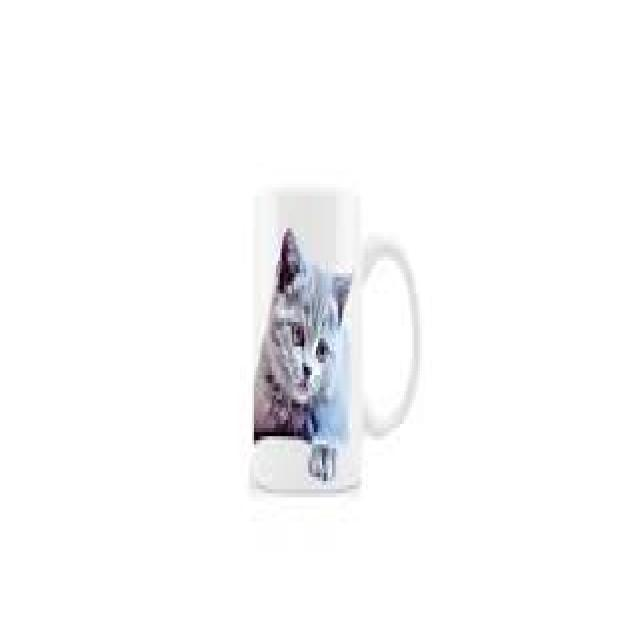taza: (251, 184, 421, 498)
